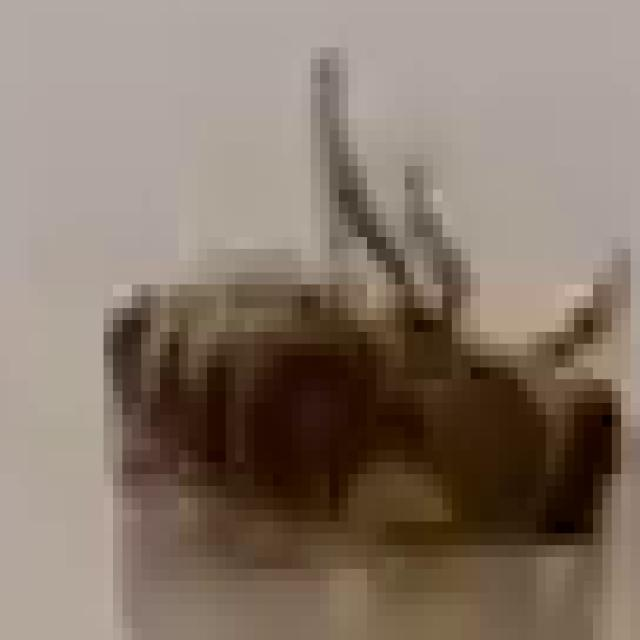honeybee: (86, 211, 614, 585)
